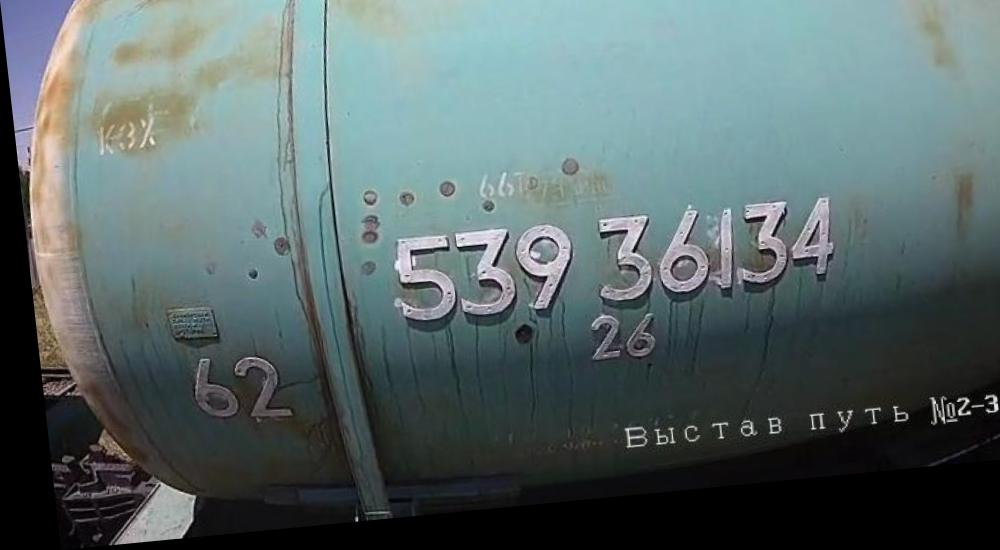Wagon-number: (377, 204, 840, 345)
